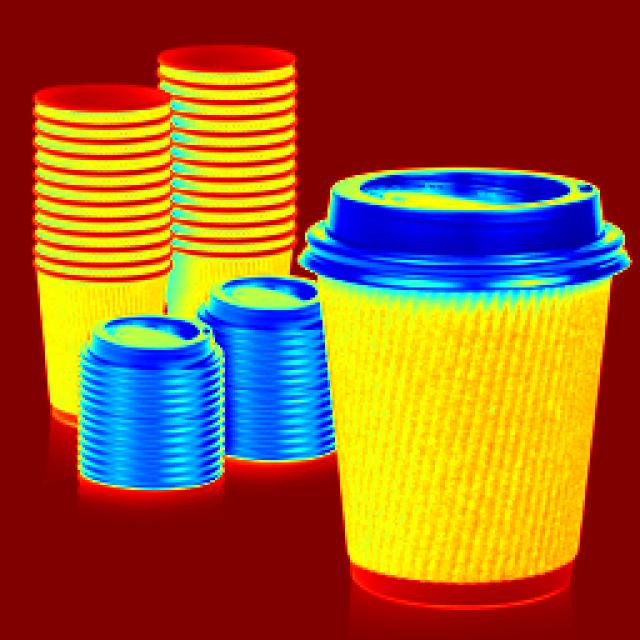Paper Cups: (320, 165, 618, 611), (24, 82, 167, 300), (158, 46, 290, 258), (82, 320, 222, 508), (212, 271, 338, 470)
